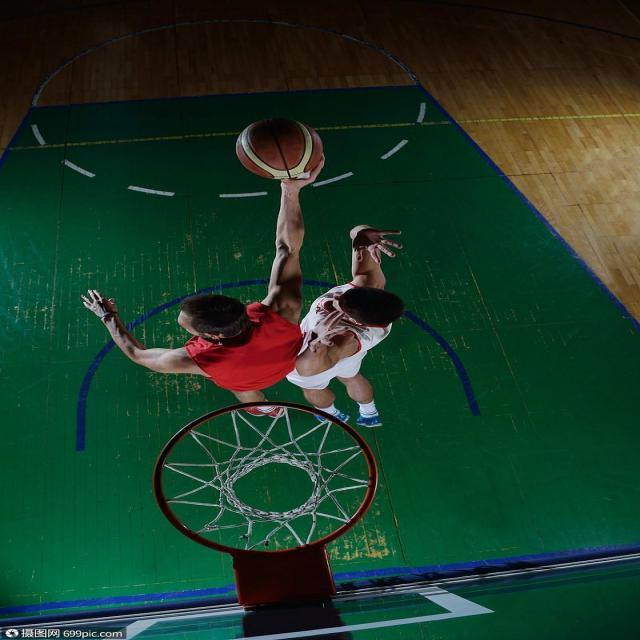rim: (235, 119, 326, 179)
